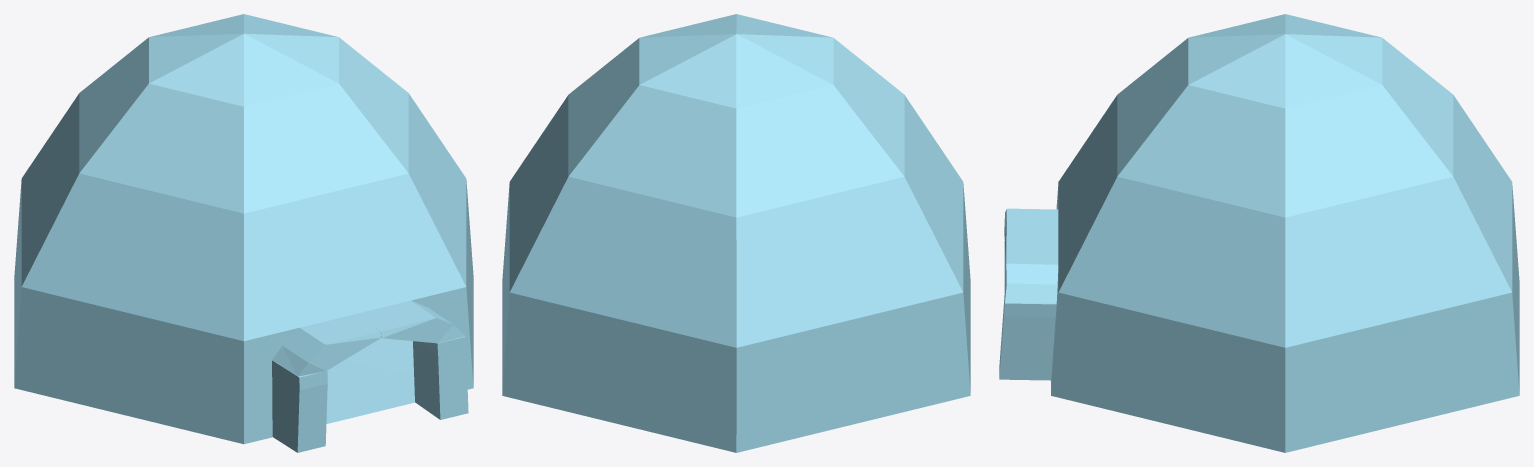
File: igloo.dae
3 views of the same model, side by side, from view 1: azimuth 30°, elevation 25°; view 2: azimuth 150°, elevation 25°; view 3: azimuth 270°, elevation 25° (orthographic). The views are drawn at different scales.
Visible parts, largest first — view 1: igloo; view 2: igloo; view 3: igloo.
Part boxes in pixels (x1,y1,x2,y2): igloo: (14, 14, 473, 452); igloo: (502, 14, 970, 452); igloo: (999, 14, 1519, 452).
Size of what is drawn, in the model's own units: 2.41 by 2.32 by 1.52.
